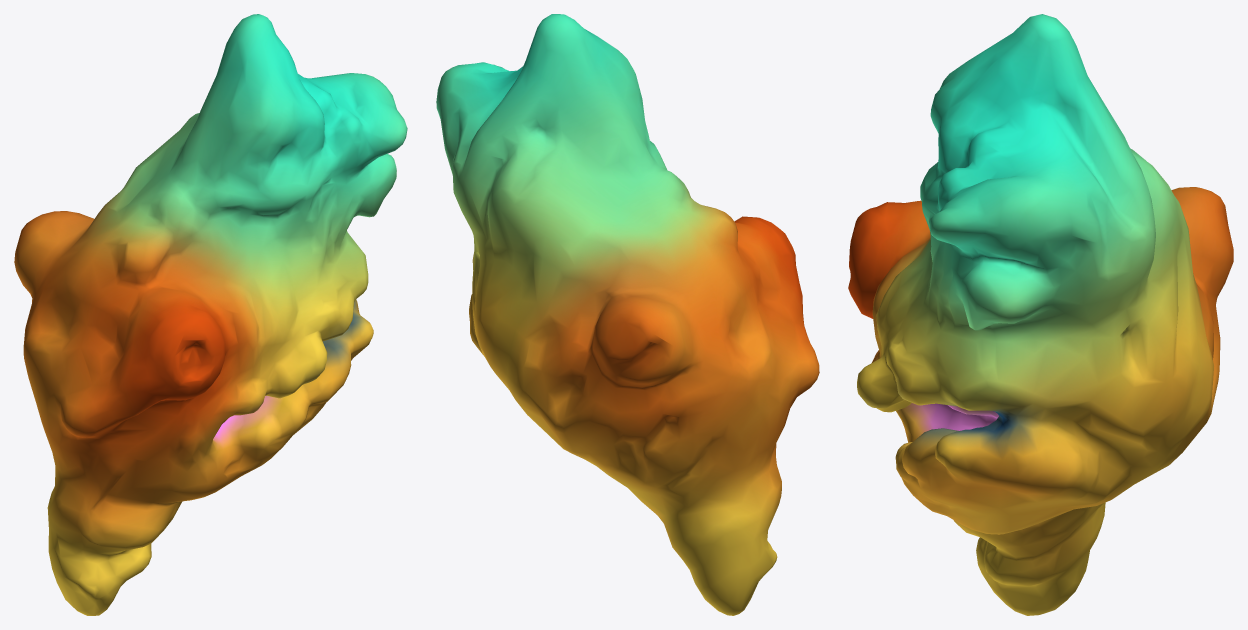
The picture shows the model from 3 angles, left to right: view 1: azimuth 30°, elevation 25°; view 2: azimuth 150°, elevation 25°; view 3: azimuth 270°, elevation 25°; orthographic projection. The views are drawn at different scales.
Parts seen in each view (by area): view 1: Group10780; view 2: Group10780; view 3: Group10780.
Part boxes in pixels (x1,y1,x2,y2): Group10780: [14, 14, 407, 615]; Group10780: [436, 14, 819, 615]; Group10780: [848, 14, 1233, 615].
Size of the model in its own units: 0.0156 by 0.0236 by 0.0118.
Materials: 1 (1 with a texture image).
